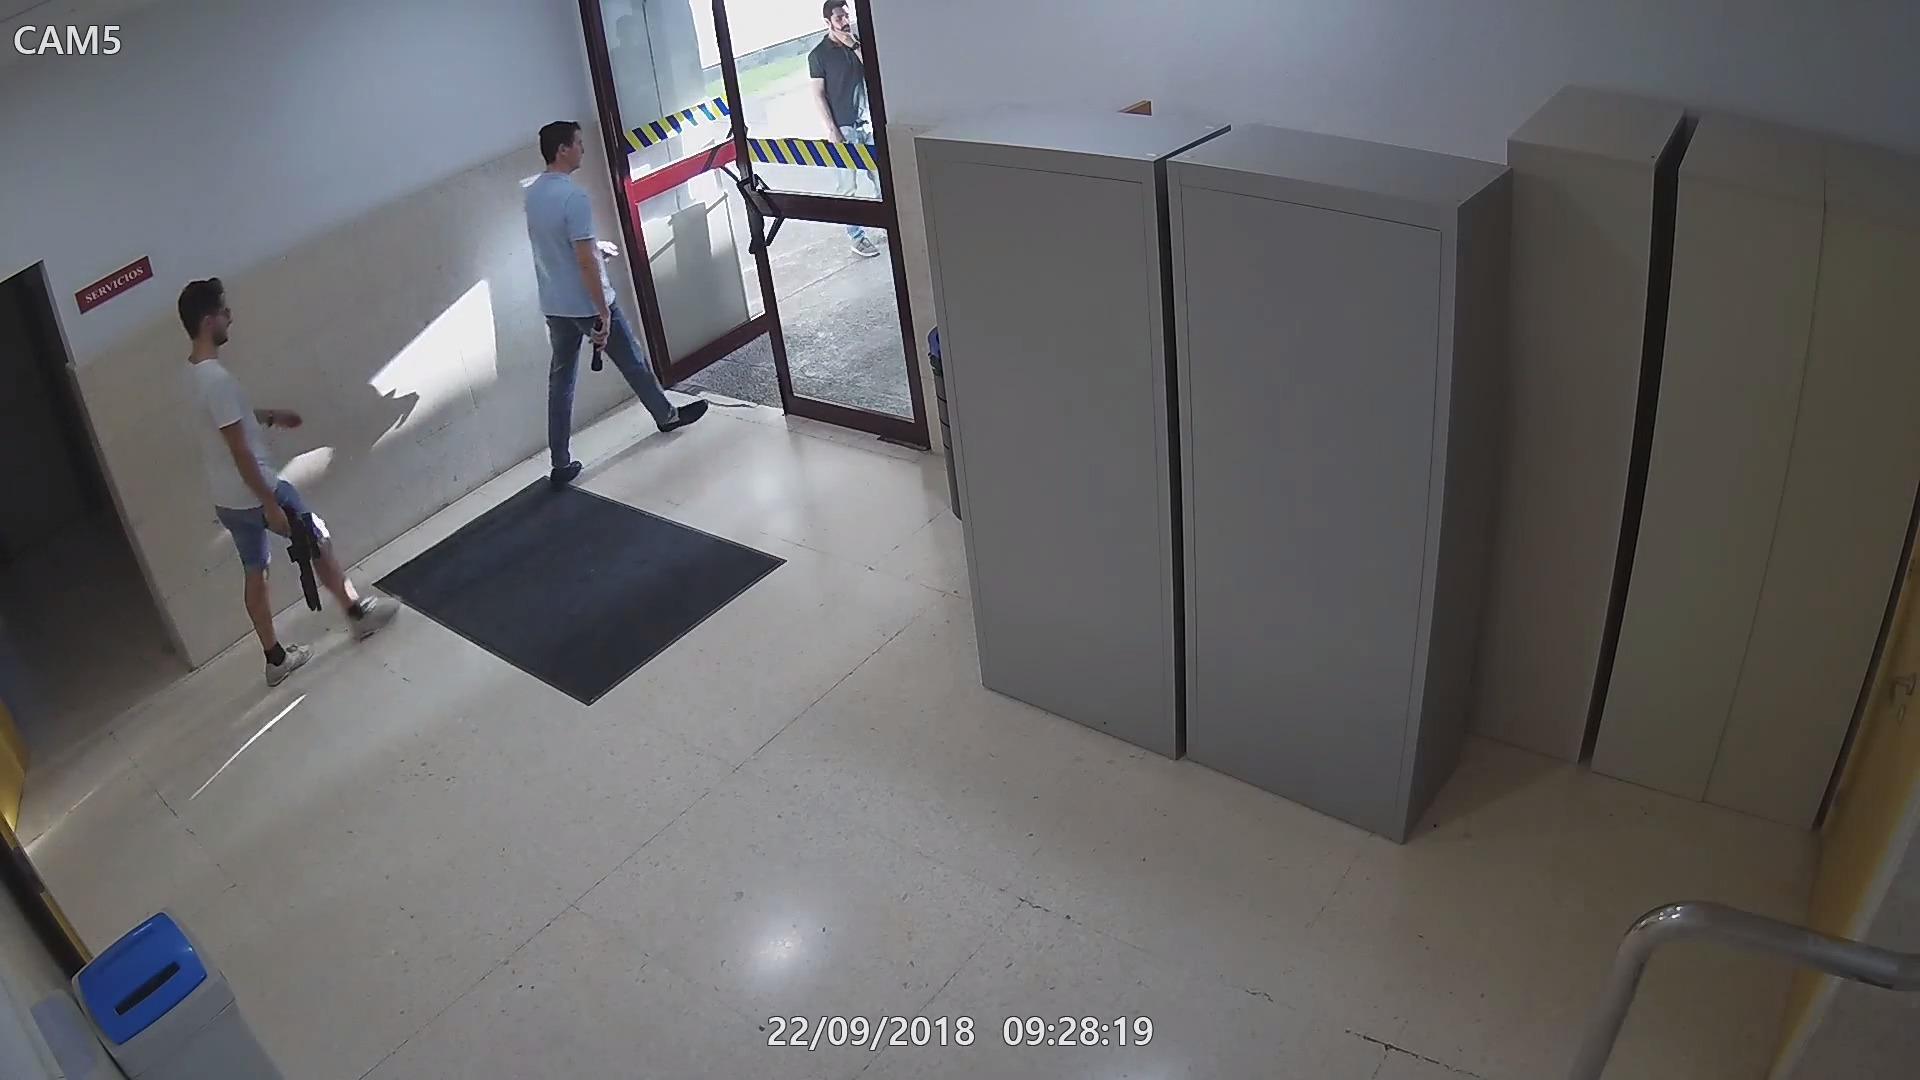Short_rifle: (258, 498, 328, 611)
